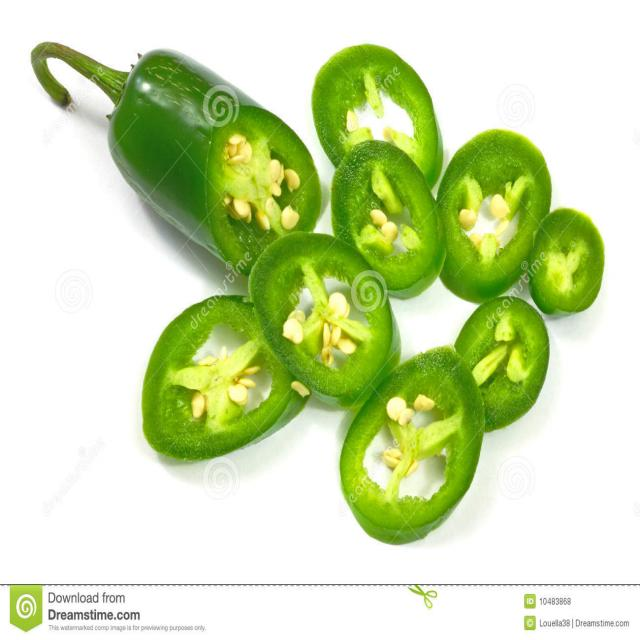aji: (150, 42, 603, 539), (73, 45, 309, 262)
